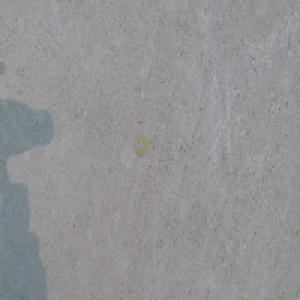Washer: (132, 133, 147, 158)
